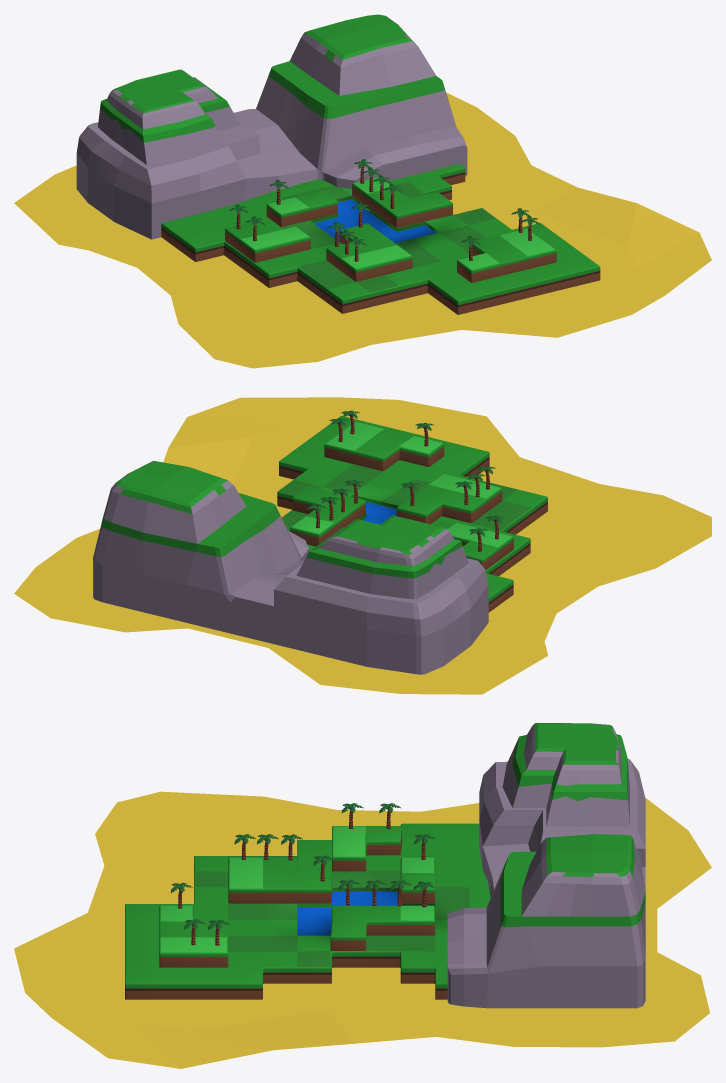
File: 测试场景.fbx
3 views of the same model, one above another, from view 1: azimuth 30°, elevation 25°; view 2: azimuth 150°, elevation 25°; view 3: azimuth 270°, elevation 25° (orthographic). The views are drawn at different scales.
Visible parts, largest first — view 1: 平面.021, 平面, 平面.007, 平面.008; view 2: 平面, 平面.021, 平面.007, 平面.008; view 3: 平面.021, 平面, 平面.007, 平面.008.
Boxes of the visible parts, x1=… form: 平面.021: x1=14, y1=92, x2=711, y2=368; 平面: x1=76, y1=14, x2=467, y2=239; 平面.007: x1=161, y1=164, x2=600, y2=314; 平面.008: x1=225, y1=177, x2=556, y2=282; 平面: x1=93, y1=460, x2=488, y2=674; 平面.021: x1=14, y1=397, x2=711, y2=694; 平面.007: x1=277, y1=416, x2=547, y2=612; 平面.008: x1=290, y1=421, x2=513, y2=570; 平面.021: x1=14, y1=791, x2=711, y2=1068; 平面: x1=447, y1=723, x2=645, y2=1008; 平面.007: x1=125, y1=823, x2=490, y2=999; 平面.008: x1=159, y1=826, x2=435, y2=967.
Size of the model in its own units: 1120 by 244 by 1191.
